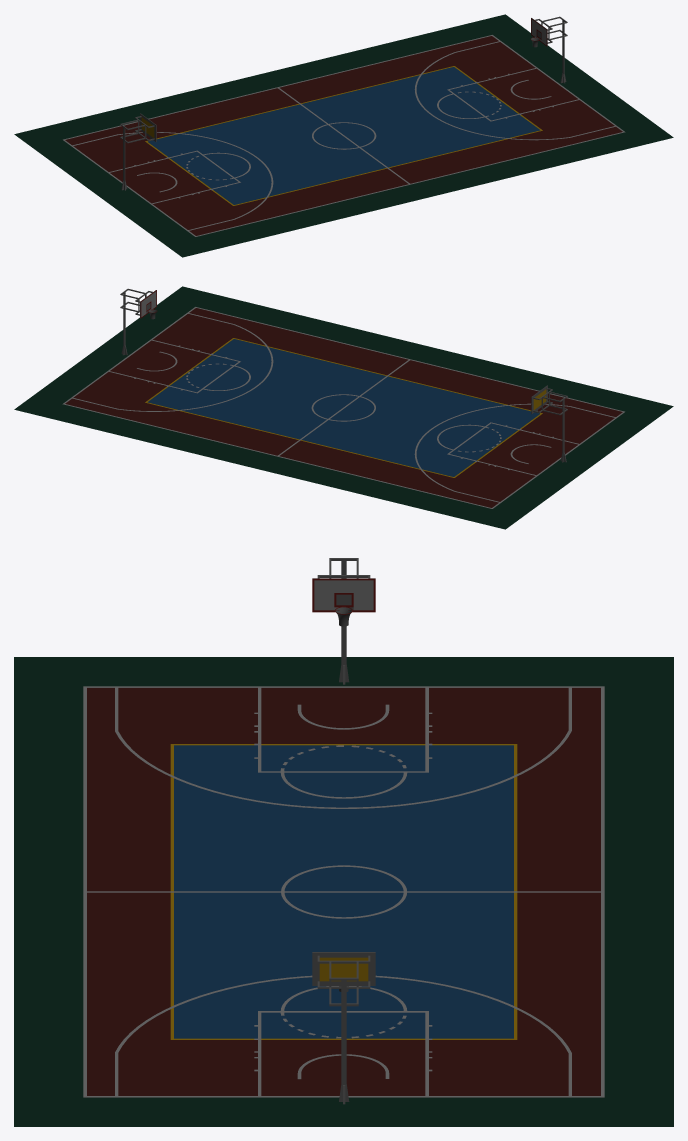
Rendered from Basketball_15x28.fbx.
3 renders of one model, top to bottom at view 1: azimuth 30°, elevation 25°; view 2: azimuth 150°, elevation 25°; view 3: azimuth 270°, elevation 25°, orthographic. The views are drawn at different scales.
Parts seen in each view (by area): view 1: Pole_basketball 15x28; view 2: Pole_basketball 15x28; view 3: Pole_basketball 15x28.
Boxes of the visible parts, x1,y1,x2,y2 form: Pole_basketball 15x28: (14, 14, 673, 257); Pole_basketball 15x28: (14, 286, 673, 529); Pole_basketball 15x28: (14, 558, 673, 1126).
Size of the model in its own units: 31998 by 4018 by 18997.
